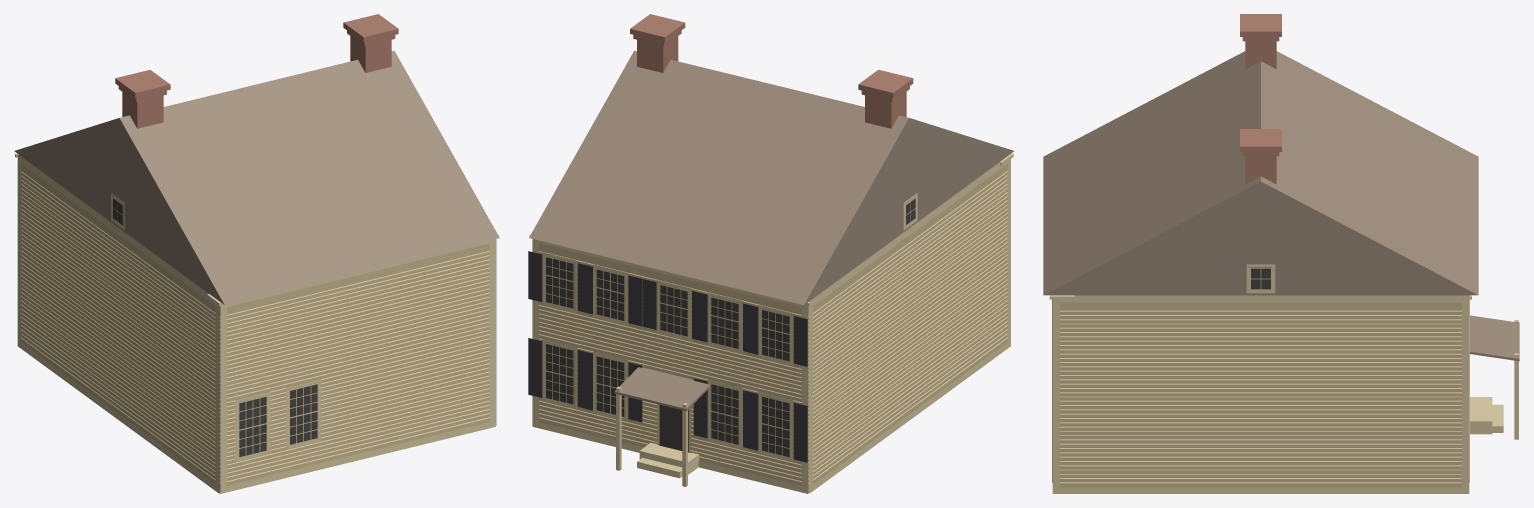
The model's file is recon_1835_blk_school_section_tier_95_h2_01__inferred_1835.glb.
3 views of the same model, side by side, from view 1: azimuth 30°, elevation 25°; view 2: azimuth 150°, elevation 25°; view 3: azimuth 270°, elevation 25° (orthographic). The views are drawn at different scales.
Visible parts, largest first — view 1: recon_1835_blk_school_section_tier_95_h2_01__inferred_1835; view 2: recon_1835_blk_school_section_tier_95_h2_01__inferred_1835; view 3: recon_1835_blk_school_section_tier_95_h2_01__inferred_1835.
Boxes of the visible parts, x1,y1,x2,y2 form: recon_1835_blk_school_section_tier_95_h2_01__inferred_1835: [14, 14, 499, 493]; recon_1835_blk_school_section_tier_95_h2_01__inferred_1835: [528, 14, 1013, 493]; recon_1835_blk_school_section_tier_95_h2_01__inferred_1835: [1043, 14, 1519, 493].
Size of the model in its own units: 9.01 by 10.16 by 12.77.
